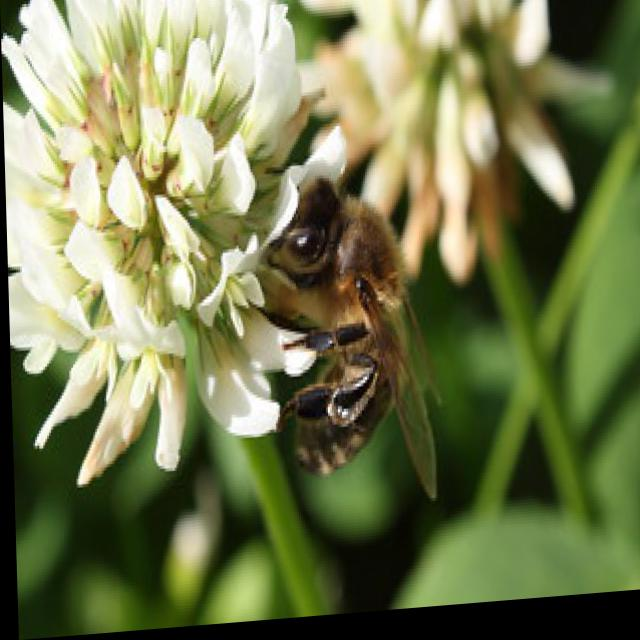Abeille: (242, 147, 466, 552)
